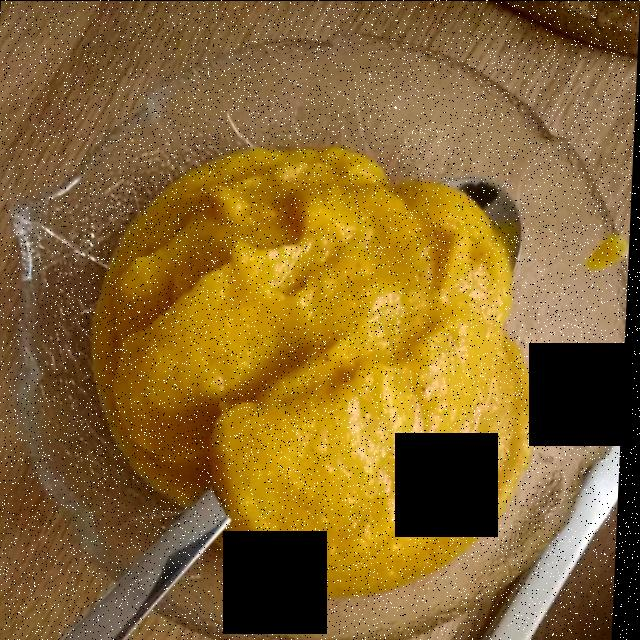soup-pumpkin: (111, 155, 540, 591)
